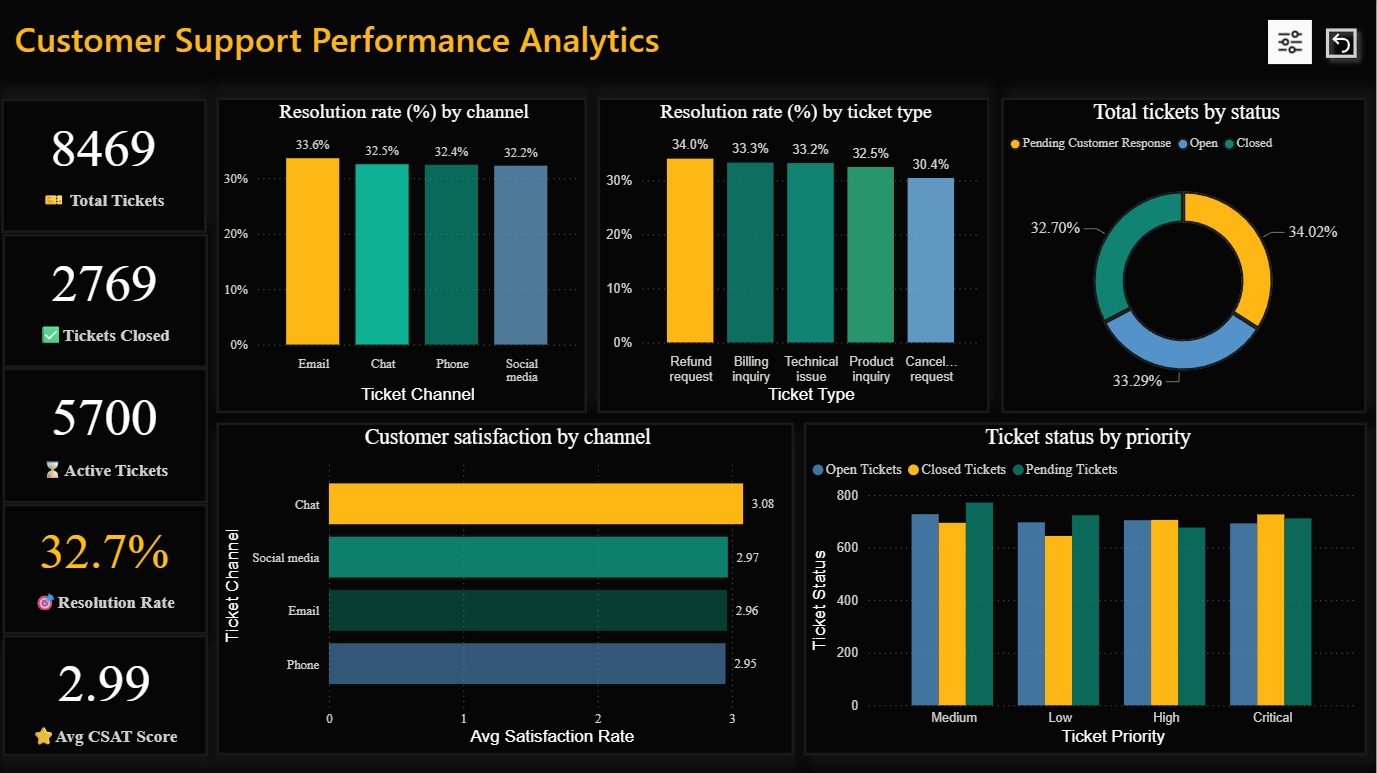

This screenshot's page, from the dashboard's own definition file:
{"tool":"powerbi","page":{"name":"Support Analytics","canvas":[1280,720],"ordinal":0},"visuals":[{"type":"actionButton","box":[1175.5,8.6,49.1,62.6],"z":3000},{"type":"cardVisual","title":"🎫","fields":{"Data":["Calculated_Table.Total Tickets"]},"box":[1.7,92.3,191.4,125.2],"z":5000},{"type":"cardVisual","fields":{"Data":["Calculated_Table.Active Tickets"]},"box":[2.5,341.6,191.4,126.4],"z":6000},{"type":"cardVisual","fields":{"Data":["Calculated_Table.Resolution Rate"]},"box":[2,468.7,191.4,121.5],"z":7000},{"type":"cardVisual","fields":{"Data":["Calculated_Table.Avg Satisfaction Rate"]},"box":[2,590.2,191.4,112.9],"z":8000},{"type":"cardVisual","title":"🎫","fields":{"Data":["Calculated_Table.Closed Tickets"]},"box":[2,216.9,191.4,125.2],"z":9000},{"type":"clusteredColumnChart","title":"Resolution rate (%) by channel","fields":{"Category":["customer_support_tickets.Ticket Channel"],"Y":["Calculated_Table.Resolution Rate"]},"box":[201.2,90.8,344.8,293.3],"z":10000},{"type":"clusteredColumnChart","title":"Resolution rate (%) by ticket type","fields":{"Category":["customer_support_tickets.Ticket Type"],"Y":["Calculated_Table.Resolution Rate"]},"box":[555.8,90.8,364.4,293.3],"z":11000},{"type":"donutChart","title":"Total tickets by status","fields":{"Category":["customer_support_tickets.Ticket Status"],"Y":["Calculated_Table.Total Tickets"]},"box":[931.3,90.8,339.9,293.3],"z":12000},{"type":"clusteredBarChart","title":"Customer satisfaction by channel","fields":{"Y":["Calculated_Table.Average Satisfaction Rate"],"Category":["customer_support_tickets.Ticket Channel"]},"box":[201.2,392.6,537.4,309.2],"z":13000},{"type":"clusteredColumnChart","title":"Ticket status by priority","fields":{"Category":["customer_support_tickets.Ticket Priority"],"Y":["Calculated_Table.Open Tickets","Calculated_Table.Closed Tickets","Calculated_Table.Pending Tickets"]},"box":[747.2,392.6,523.9,309.2],"z":14000},{"type":"actionButton","title":"Reset Slicer","box":[1224.5,17.2,46.6,45.4],"z":15000},{"type":"textbox","box":[0,9.8,681,71.2],"z":16000}]}

Visuals, with their boxes in screenshot pixels (x1, y1, x2, y2), scaled from the page's 1280x720 canvas onto the 1377x773 screenshot:
actionButton: region(1265, 9, 1317, 76)
"🎫" cardVisual: region(2, 99, 208, 234)
cardVisual - Calculated_Table.Active Tickets: region(3, 367, 209, 502)
cardVisual - Calculated_Table.Resolution Rate: region(2, 503, 208, 634)
cardVisual - Calculated_Table.Avg Satisfaction Rate: region(2, 634, 208, 755)
"🎫" cardVisual: region(2, 233, 208, 367)
"Resolution rate (%) by channel" clusteredColumnChart: region(216, 97, 587, 412)
"Resolution rate (%) by ticket type" clusteredColumnChart: region(598, 97, 990, 412)
"Total tickets by status" donutChart: region(1002, 97, 1368, 412)
"Customer satisfaction by channel" clusteredBarChart: region(216, 421, 795, 753)
"Ticket status by priority" clusteredColumnChart: region(804, 421, 1367, 753)
"Reset Slicer" actionButton: region(1317, 18, 1367, 67)
textbox: region(0, 11, 733, 87)
